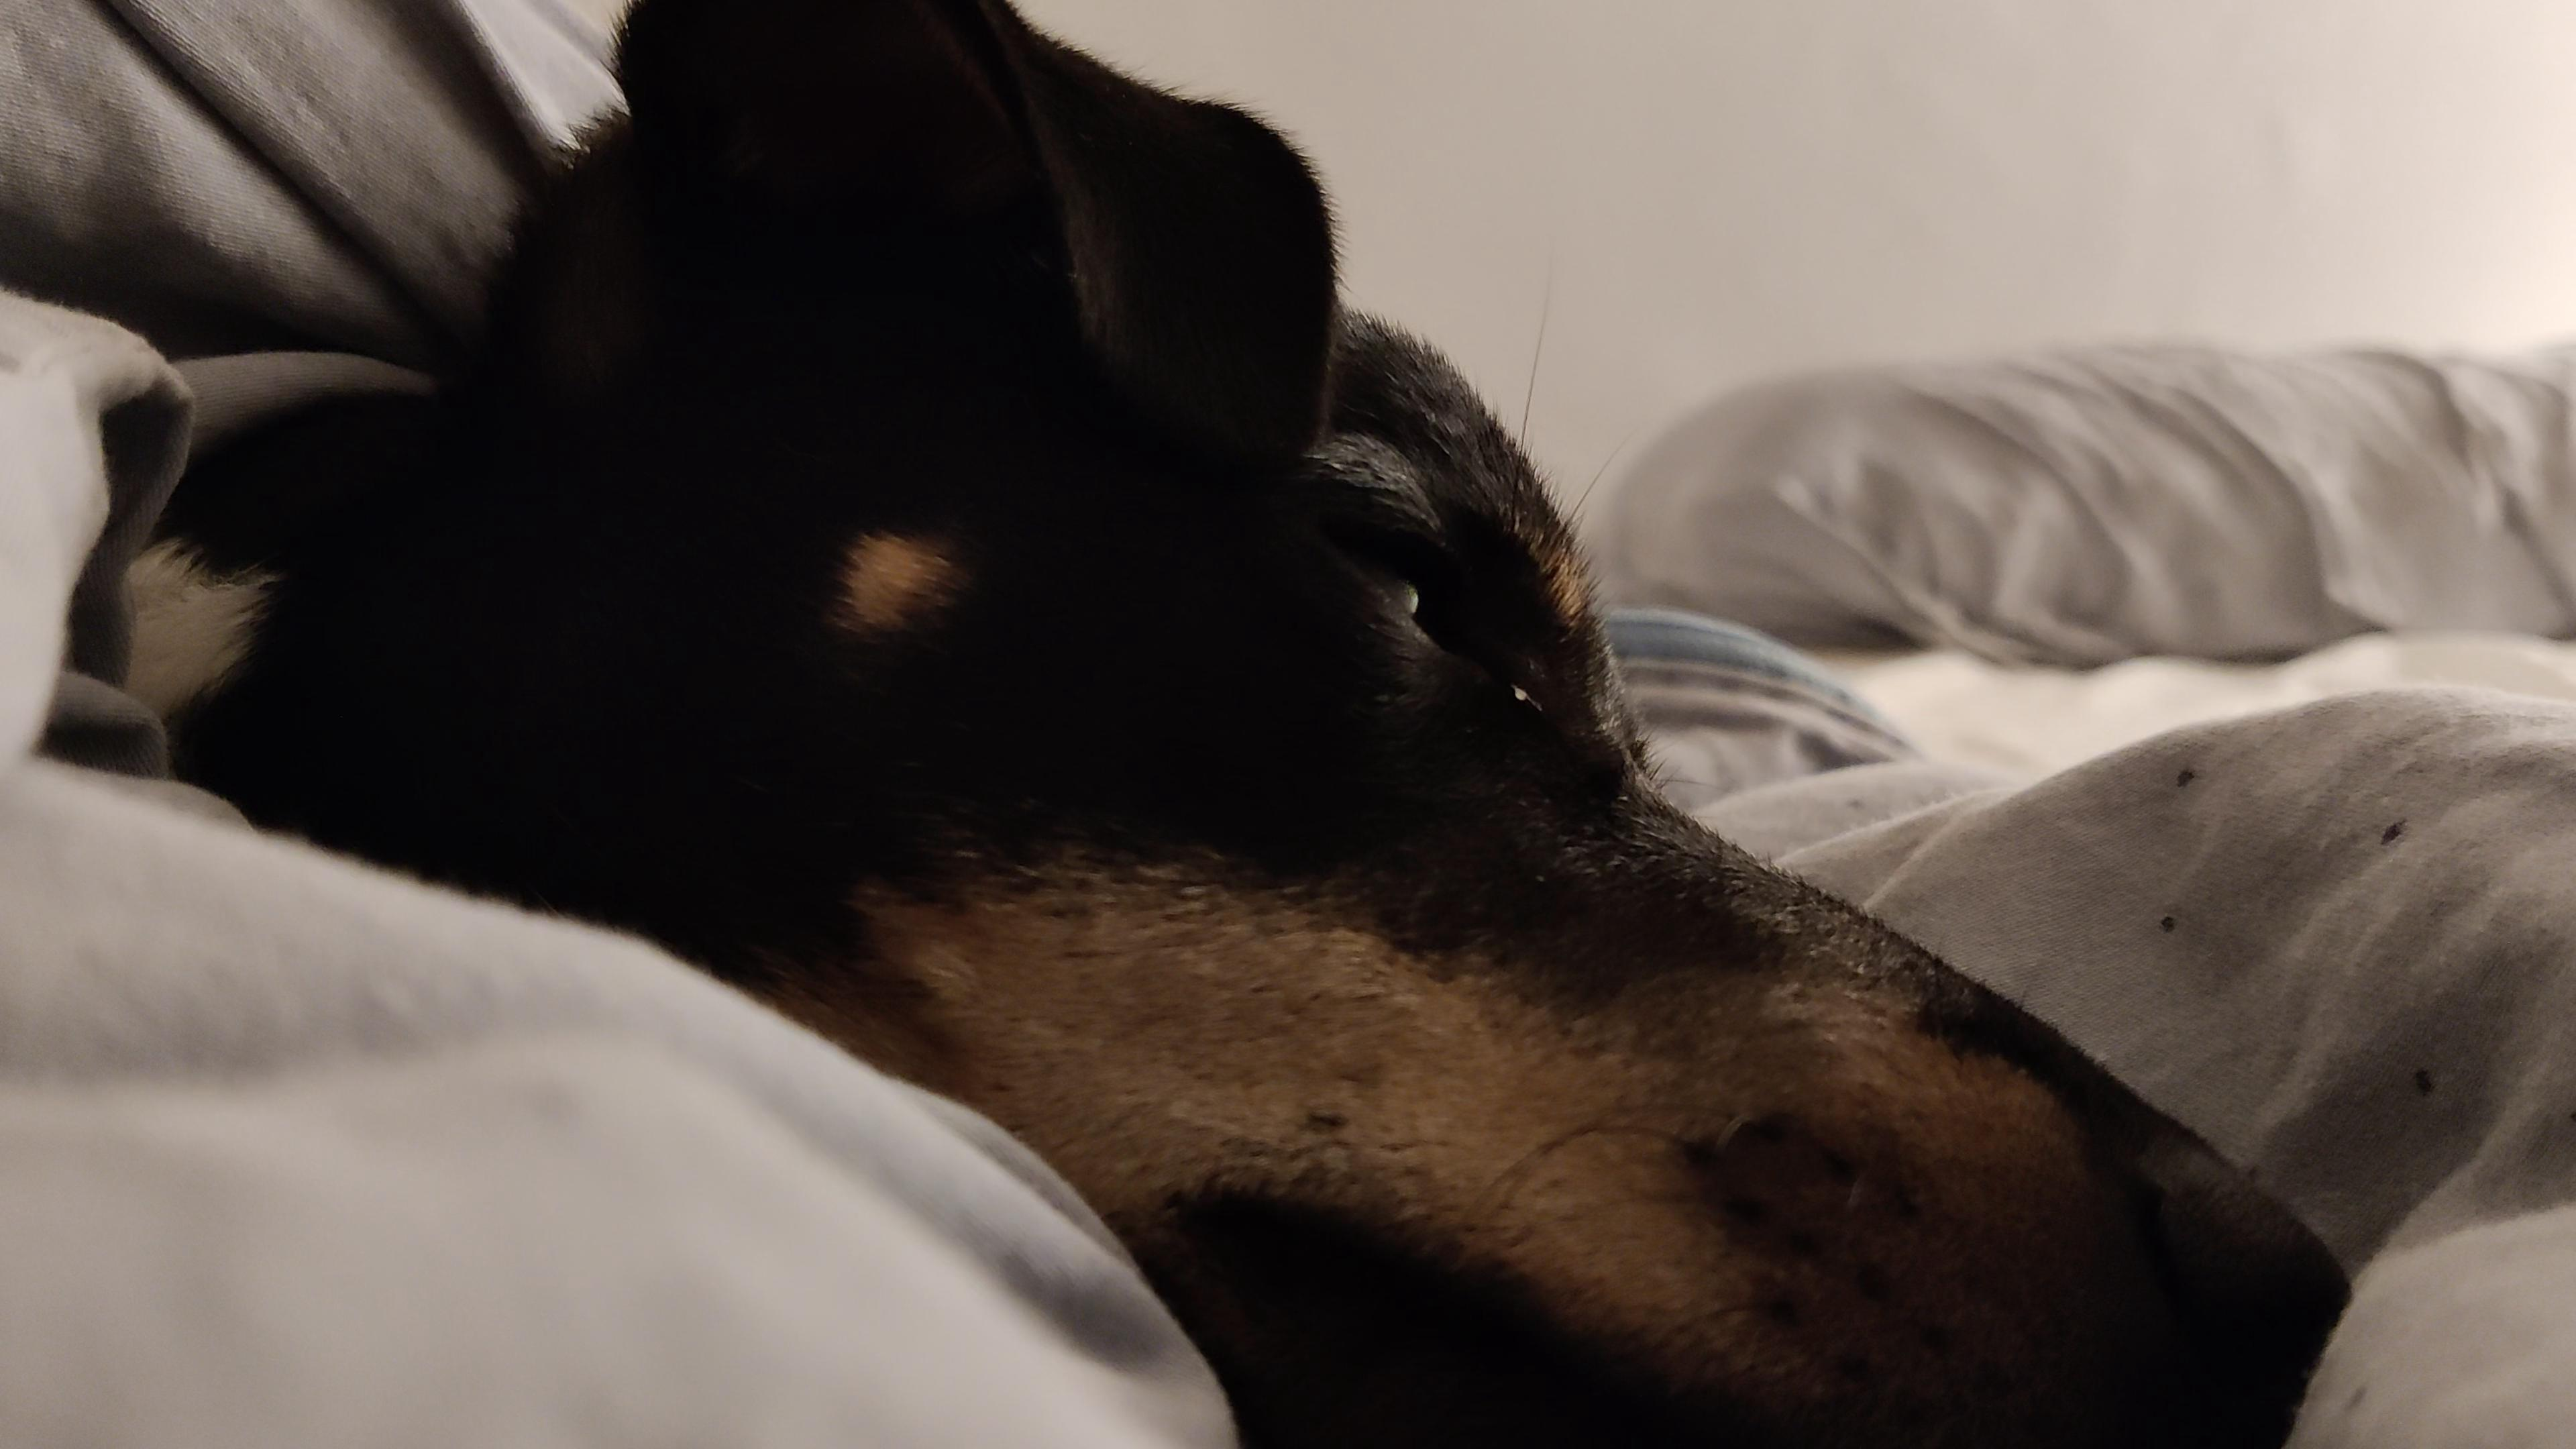Dog: (60, 0, 2355, 1449)
